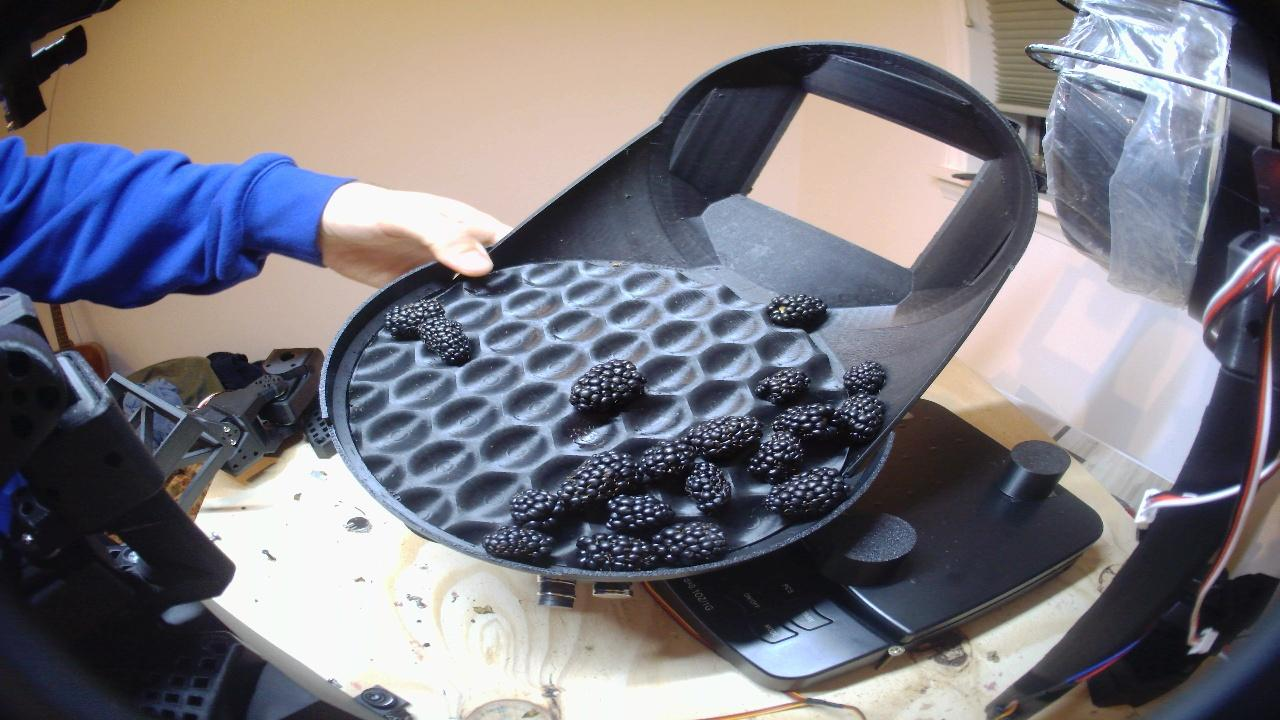berry: (558, 451, 639, 510), (765, 467, 849, 519), (570, 359, 646, 413), (683, 416, 762, 461), (772, 405, 849, 450), (747, 431, 804, 483), (654, 522, 726, 563), (578, 533, 656, 569), (606, 495, 674, 533), (483, 527, 552, 563), (419, 318, 471, 365), (384, 300, 443, 339), (640, 440, 696, 481), (837, 396, 884, 444), (685, 463, 730, 513), (511, 489, 563, 531), (766, 295, 826, 329), (755, 368, 809, 404), (845, 360, 887, 392)
